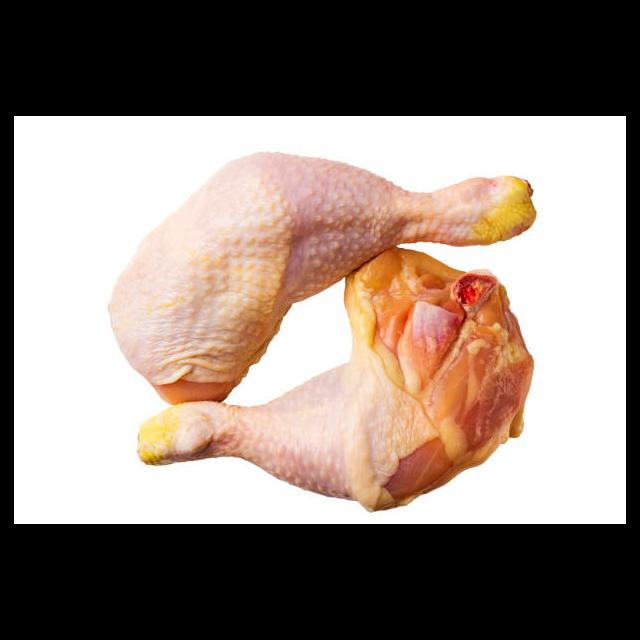chicken: (105, 152, 535, 408), (136, 245, 535, 515)
